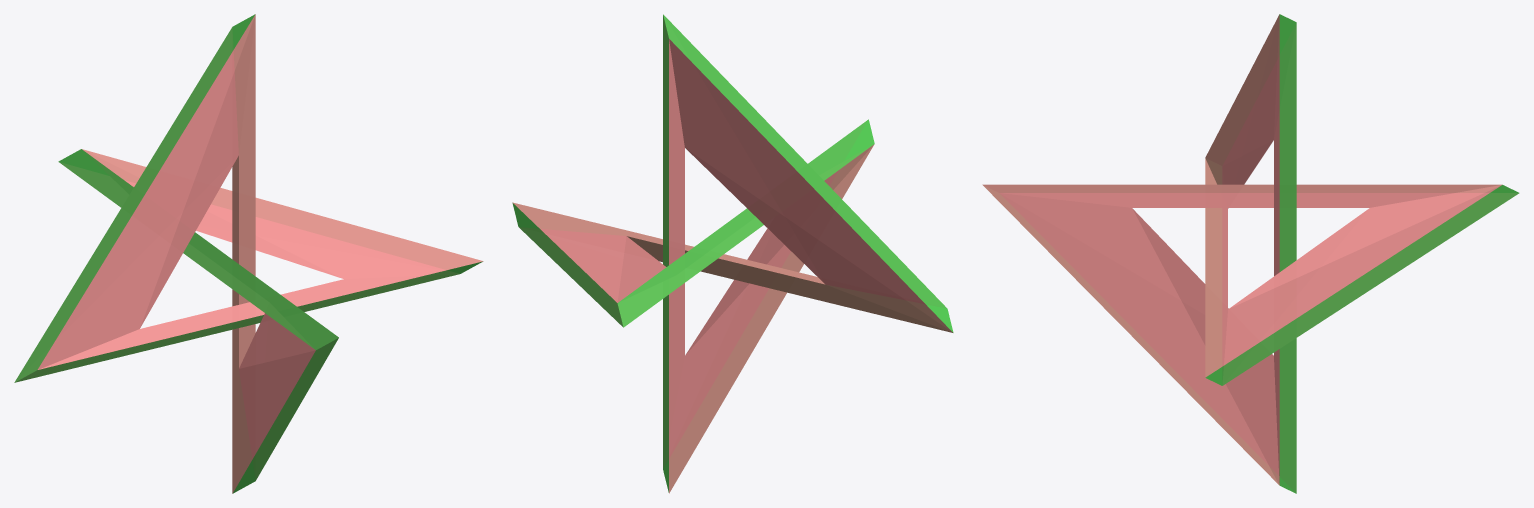
Rendered from KnottedDodecahedron.obj.
The picture shows the model from 3 angles, left to right: view 1: azimuth 30°, elevation 25°; view 2: azimuth 150°, elevation 25°; view 3: azimuth 270°, elevation 25°; orthographic projection. The views are drawn at different scales.
Bounding box in the file's own units: 9.4 × 9.4 × 9.4.
